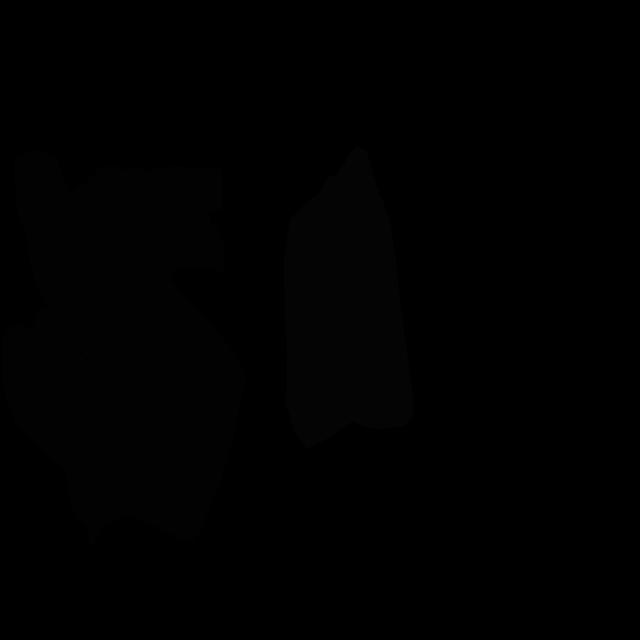cardboard: (2, 278, 246, 546), (14, 150, 224, 377)
soft_plastic: (284, 145, 414, 449)
